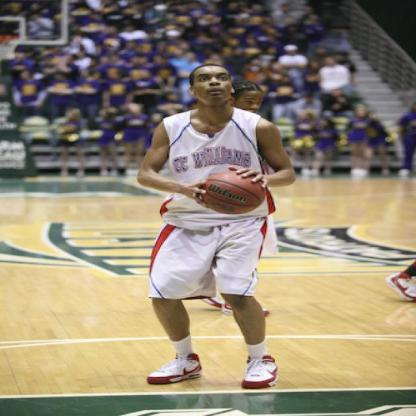basketball: (198, 171, 268, 214)
